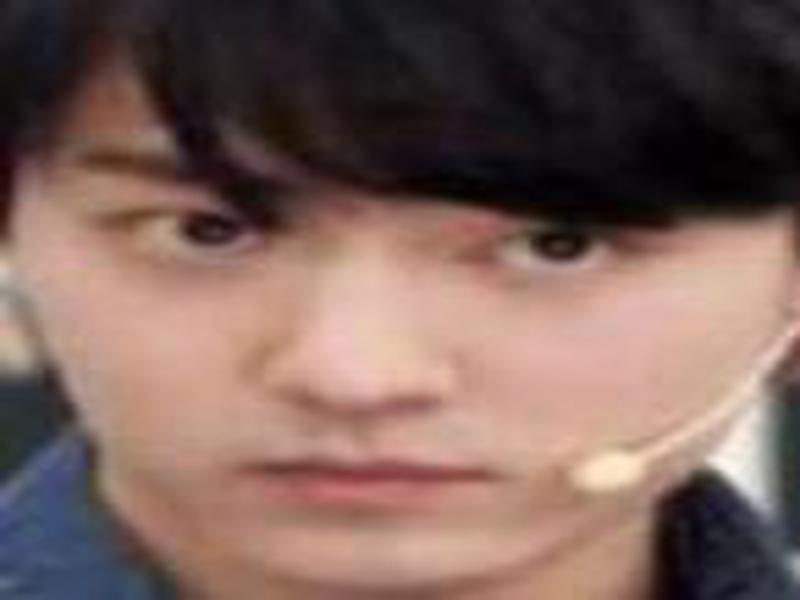without_mask: (16, 89, 791, 585)
